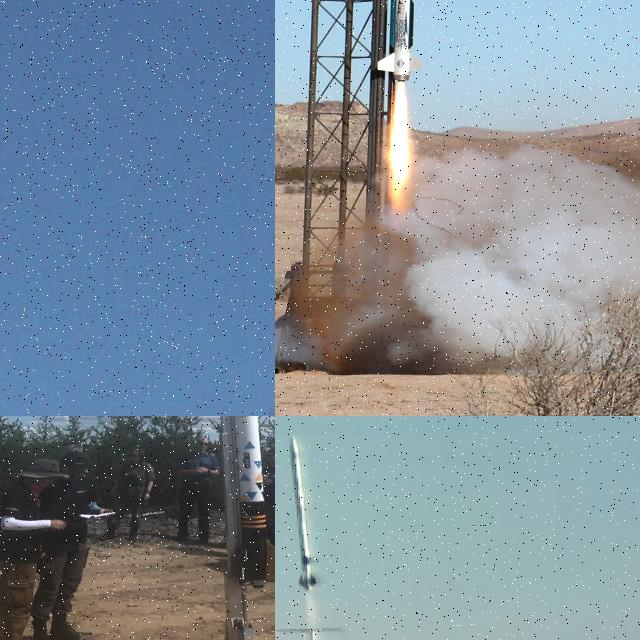Rocket: (230, 416, 275, 588), (289, 437, 317, 590), (377, 0, 424, 82)
